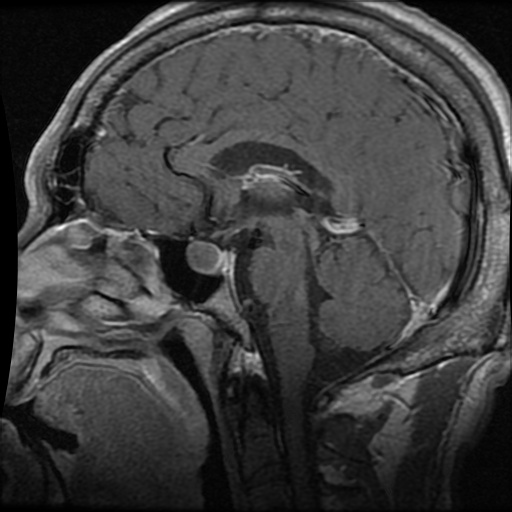pituitary: (189, 243, 220, 269)
